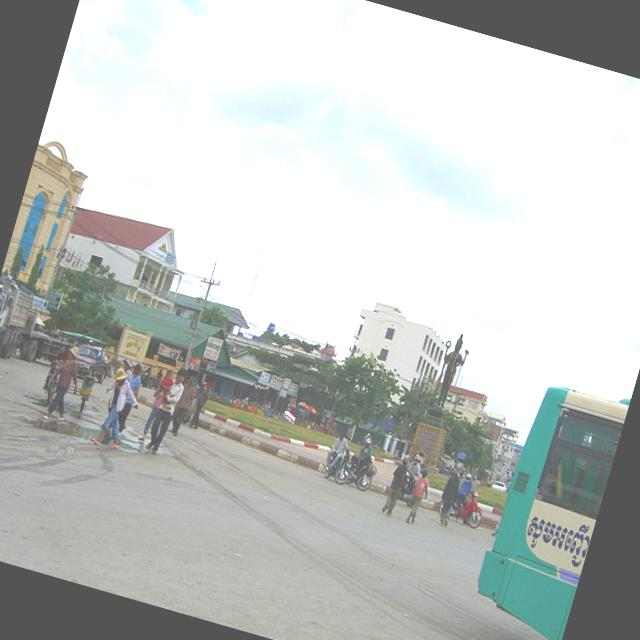Vehicle: (464, 371, 630, 640), (0, 269, 51, 382), (0, 437, 28, 560), (70, 341, 120, 387), (318, 441, 358, 486), (455, 486, 490, 530), (346, 452, 376, 490), (490, 517, 502, 537)
